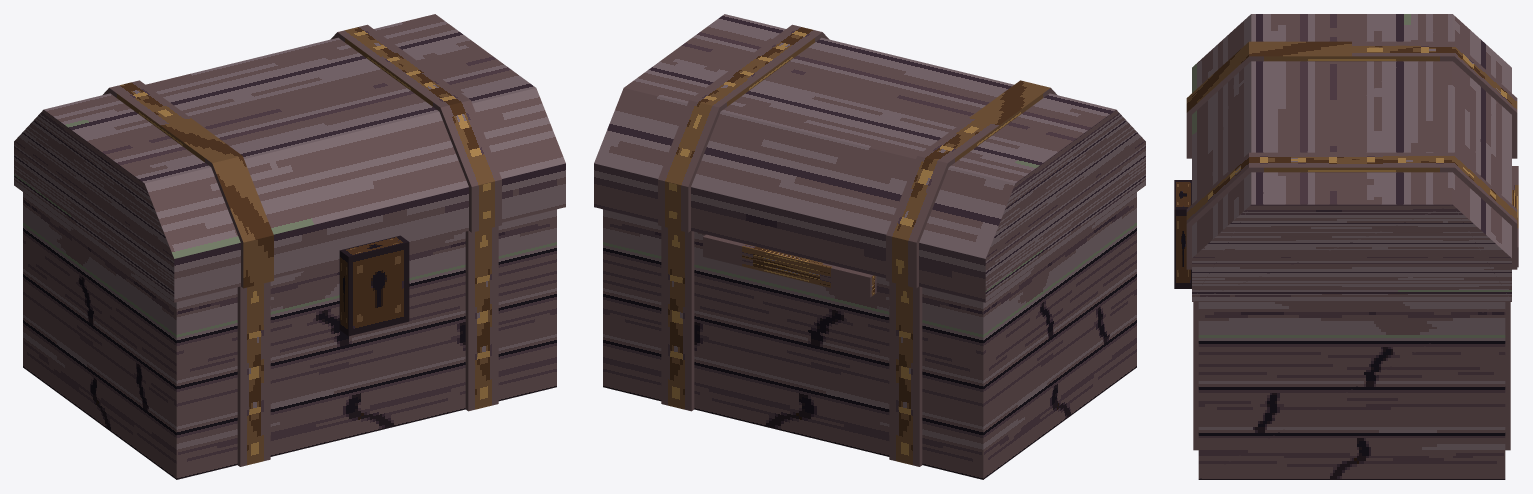
File: chest_beggar.glb
3 views of the same model, side by side, from view 1: azimuth 30°, elevation 25°; view 2: azimuth 150°, elevation 25°; view 3: azimuth 270°, elevation 25° (orthographic).
Visible parts, largest first — view 1: lid, base, lock; view 2: lid, base; view 3: lid, base, lock.
Part boxes in pixels (x1=…): lid: x1=14, y1=14, x2=565, y2=302; base: x1=23, y1=192, x2=556, y2=479; lock: x1=339, y1=235, x2=409, y2=336; lid: x1=594, y1=14, x2=1145, y2=302; base: x1=603, y1=192, x2=1136, y2=479; lid: x1=1186, y1=14, x2=1517, y2=301; base: x1=1193, y1=166, x2=1518, y2=479; lock: x1=1174, y1=180, x2=1191, y2=288.
Size of the model in its own units: 1.03 by 0.712 by 0.785.
1 material, 1 textured.
